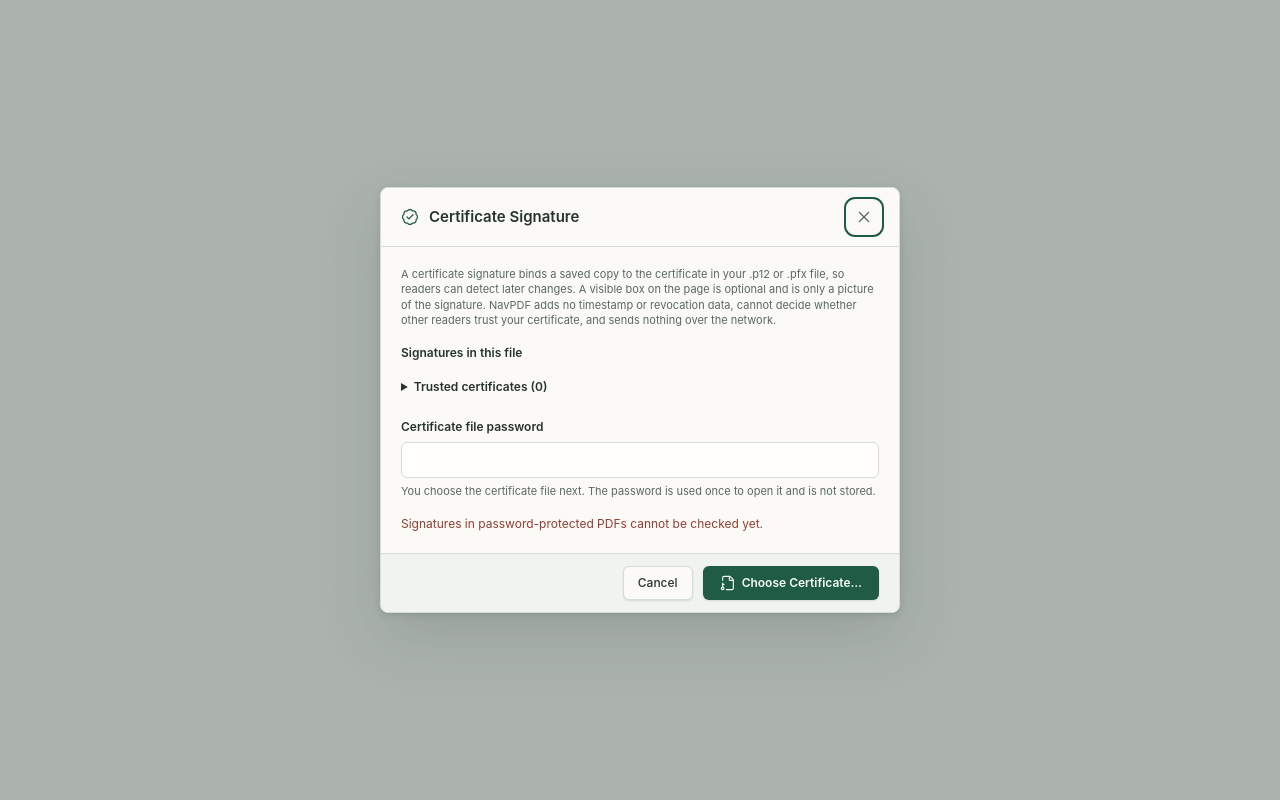
Scenario: certificate signature dialog › explains when the signatures in the file cannot be checked
Check: the message shows "cannot be checked yet", box top-left (401, 516), bottom-right (763, 531)
Click the button "Choose Certificate…" at (791, 583), box top-left (703, 566), bottom-right (879, 600)
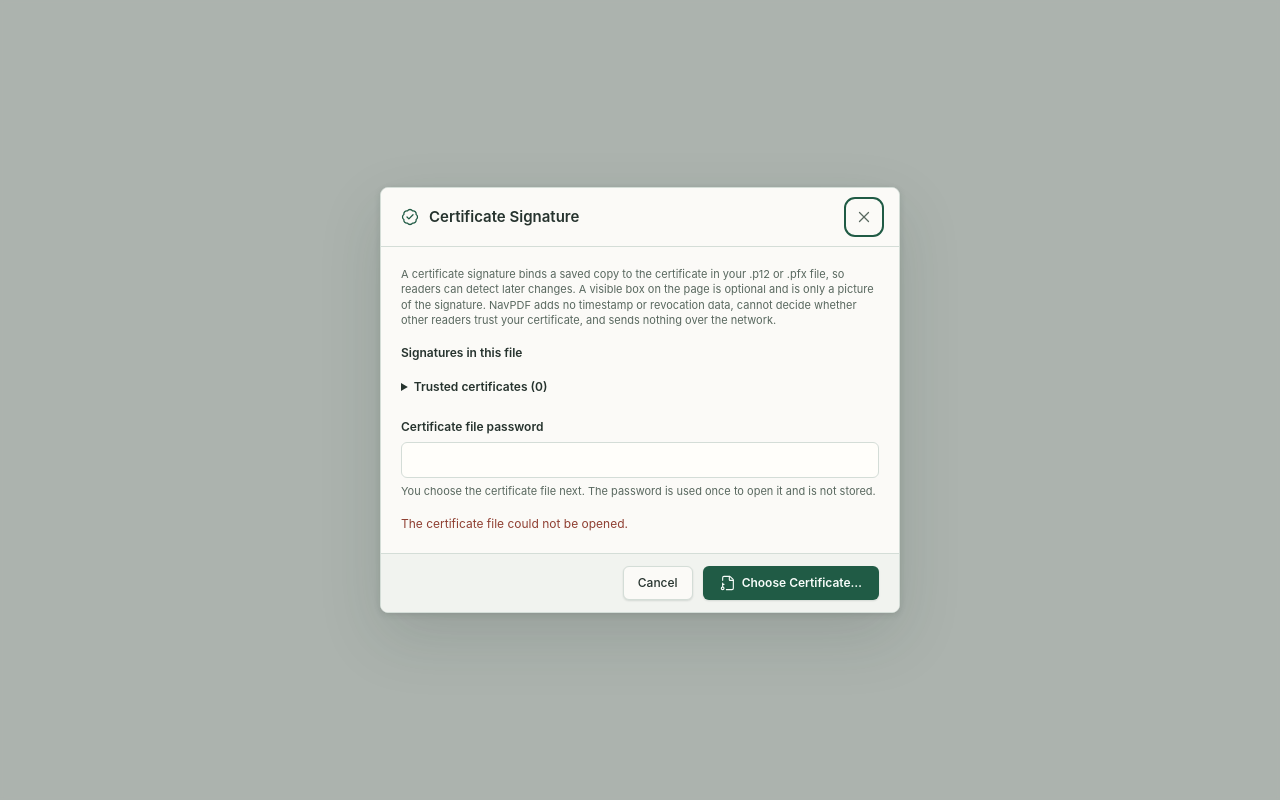
Check: the message reads "The certificate file could not be opened.", box top-left (401, 516), bottom-right (628, 531)
